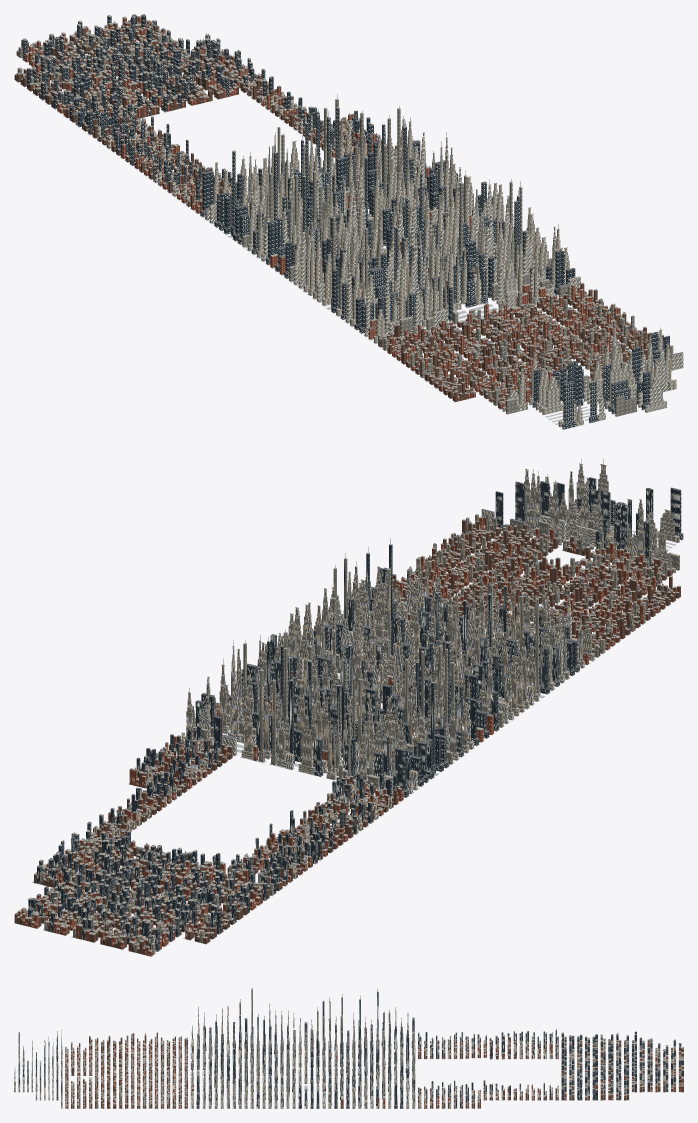
The model's file is city_blocks.glb.
3 views of the same model, one above another, from view 1: azimuth 30°, elevation 25°; view 2: azimuth 150°, elevation 25°; view 3: azimuth 270°, elevation 25° (orthographic). The views are drawn at different scales.
Visible parts, largest first — view 1: city_blocks_facade_glass_b, city_blocks_facade_deco_a, city_blocks_stone_mid, city_blocks_facade_glass_a, city_blocks_facade_brick_a, city_blocks_facade_prewar, city_blocks_facade_panel, city_blocks_facade_brick_b, city_blocks_facade_deco_b, city_blocks_roof_dark, city_blocks_dark_metal, city_blocks_facade_brown (+2 smaller); view 2: city_blocks_facade_glass_b, city_blocks_facade_deco_a, city_blocks_stone_mid, city_blocks_facade_glass_a, city_blocks_facade_brick_a, city_blocks_facade_prewar, city_blocks_facade_brick_b, city_blocks_facade_panel, city_blocks_facade_deco_b, city_blocks_roof_dark, city_blocks_dark_metal, city_blocks_facade_brown (+2 smaller); view 3: city_blocks_stone_mid, city_blocks_sidewalk, city_blocks_facade_glass_b, city_blocks_facade_glass_a, city_blocks_facade_brick_a, city_blocks_facade_panel, city_blocks_roof_dark, city_blocks_facade_brick_b, city_blocks_facade_deco_a, city_blocks_facade_prewar, city_blocks_facade_deco_b, city_blocks_dark_metal (+2 smaller).
Boxes of the visible parts, x1,y1,x2,y2 form: city_blocks_facade_glass_b: [21, 17, 630, 429]; city_blocks_facade_deco_a: [213, 119, 676, 414]; city_blocks_stone_mid: [15, 14, 683, 422]; city_blocks_facade_glass_a: [27, 15, 669, 409]; city_blocks_facade_brick_a: [16, 17, 647, 409]; city_blocks_facade_prewar: [97, 79, 683, 420]; city_blocks_facade_panel: [17, 20, 673, 416]; city_blocks_facade_brick_b: [14, 23, 663, 404]; city_blocks_facade_deco_b: [222, 122, 671, 426]; city_blocks_roof_dark: [20, 14, 682, 424]; city_blocks_dark_metal: [17, 14, 669, 398]; city_blocks_facade_brown: [20, 21, 646, 407]; city_blocks_facade_glass_b: [28, 488, 683, 951]; city_blocks_facade_deco_a: [185, 464, 675, 784]; city_blocks_stone_mid: [15, 463, 680, 951]; city_blocks_facade_glass_a: [28, 478, 649, 937]; city_blocks_facade_brick_a: [17, 517, 676, 956]; city_blocks_facade_prewar: [94, 477, 643, 878]; city_blocks_facade_brick_b: [14, 520, 680, 954]; city_blocks_facade_panel: [31, 515, 679, 954]; city_blocks_facade_deco_b: [214, 474, 679, 778]; city_blocks_roof_dark: [15, 470, 682, 943]; city_blocks_dark_metal: [24, 459, 680, 950]; city_blocks_facade_brown: [19, 524, 673, 953]; city_blocks_stone_mid: [14, 1003, 683, 1105]; city_blocks_sidewalk: [15, 1044, 680, 1108]; city_blocks_facade_glass_b: [18, 992, 683, 1108]; city_blocks_facade_glass_a: [18, 1019, 683, 1108]; city_blocks_facade_brick_a: [65, 1034, 683, 1108]; city_blocks_facade_panel: [45, 989, 681, 1108]; city_blocks_roof_dark: [14, 1010, 683, 1106]; city_blocks_facade_brick_b: [65, 1033, 683, 1108]; city_blocks_facade_deco_a: [18, 1005, 414, 1108]; city_blocks_facade_prewar: [14, 1007, 558, 1108]; city_blocks_facade_deco_b: [22, 1011, 414, 1108]; city_blocks_dark_metal: [18, 988, 682, 1105].
Bounding box in the file's own units: 665 × 295 × 2913.
15 materials, 9 textured.
